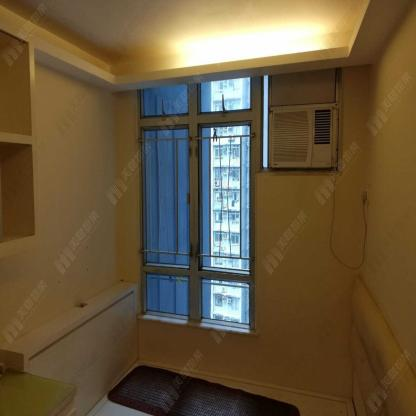AC: (267, 104, 339, 171)
Bed Frame: (0, 276, 356, 416)
